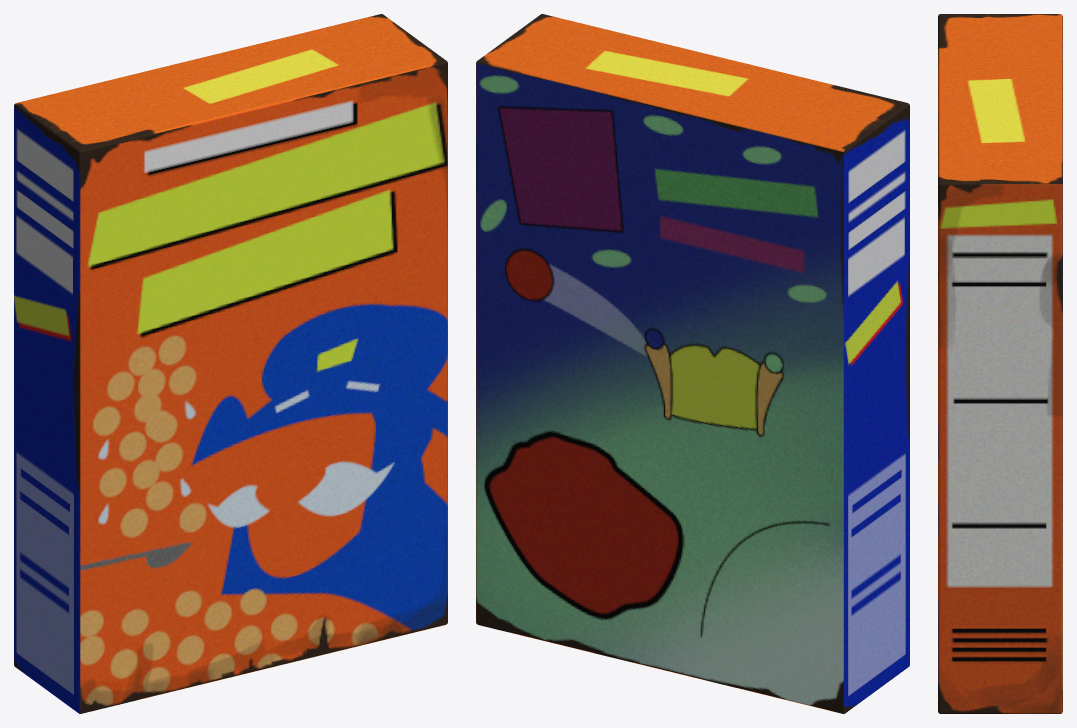
The model's file is SM_Cereal_Box.fbx.
The picture shows the model from 3 angles, left to right: view 1: azimuth 30°, elevation 25°; view 2: azimuth 150°, elevation 25°; view 3: azimuth 270°, elevation 25°; orthographic projection. The views are drawn at different scales.
Visible parts, largest first — view 1: SM_Cereal_Box_LOD0; view 2: SM_Cereal_Box_LOD0; view 3: SM_Cereal_Box_LOD0.
Boxes of the visible parts, <box> form: SM_Cereal_Box_LOD0: <box>14,14,447,713</box>; SM_Cereal_Box_LOD0: <box>476,14,909,713</box>; SM_Cereal_Box_LOD0: <box>938,14,1062,713</box>.
Bounding box in the file's own units: 24.62 × 7.64 × 35.9.
1 material, 1 textured.
